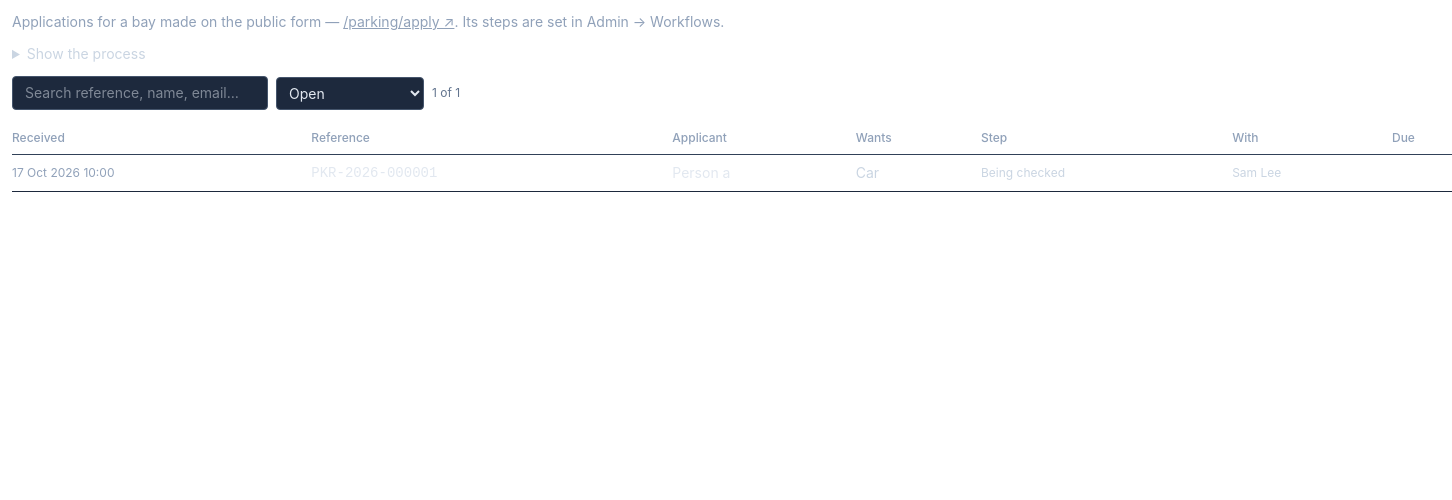
Test: Parking → Applications › someone who cannot edit Parking sees who it is with, with no choice
The image size is (1452, 500).
Click the text "PKR-2026-000001". click: [374, 173]
box: [311, 154, 672, 192]
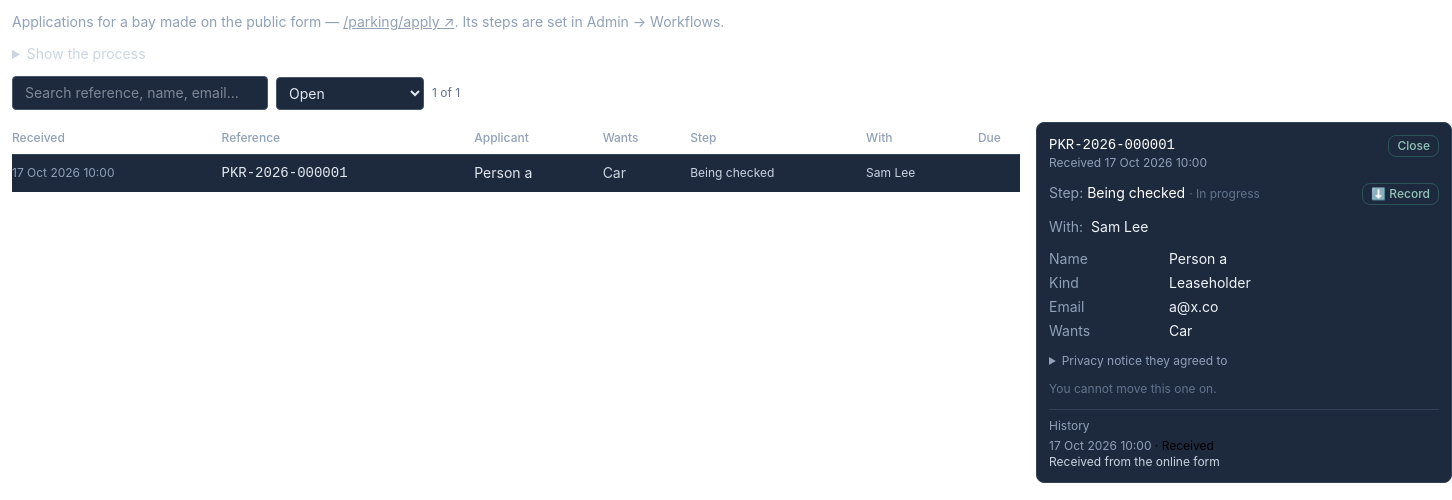
Expected: the element with test id "wf-with" shows "Sam Lee", [1091, 218, 1148, 235]
